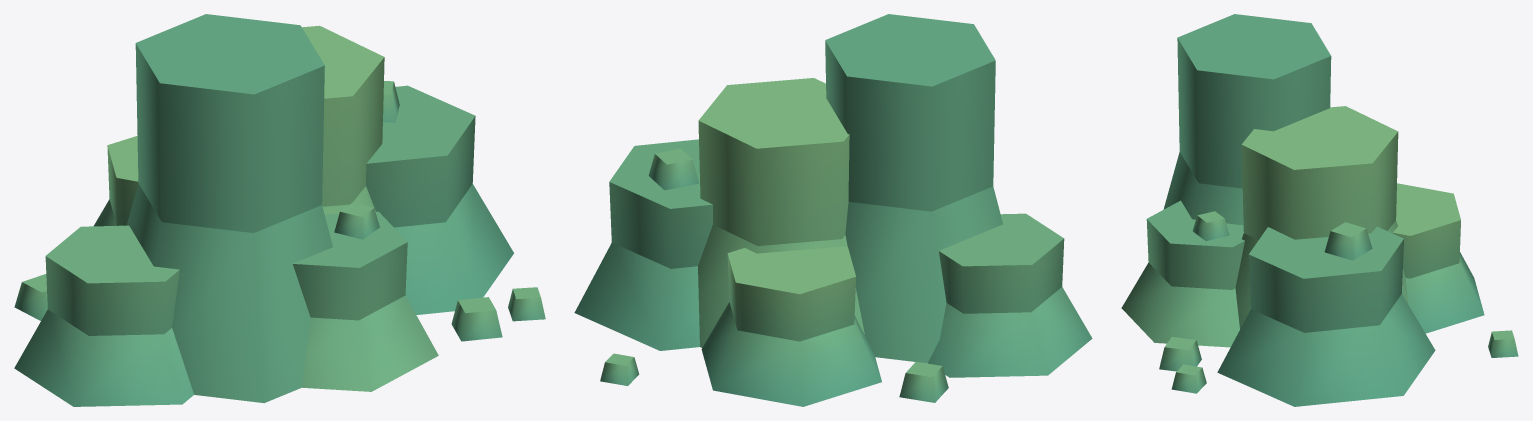
The model's file is rocks-a.glb.
The picture shows the model from 3 angles, left to right: view 1: azimuth 30°, elevation 25°; view 2: azimuth 150°, elevation 25°; view 3: azimuth 270°, elevation 25°; orthographic projection. The views are drawn at different scales.
Visible parts, largest first — view 1: rocks-a; view 2: rocks-a; view 3: rocks-a.
Boxes of the visible parts, <box> form: rocks-a: <box>14,14,545,406</box>; rocks-a: <box>574,14,1092,406</box>; rocks-a: <box>1121,14,1518,406</box>.
Bounding box in the file's own units: 5.11 × 2.9 × 4.39.
Materials: 1 (1 with a texture image).
